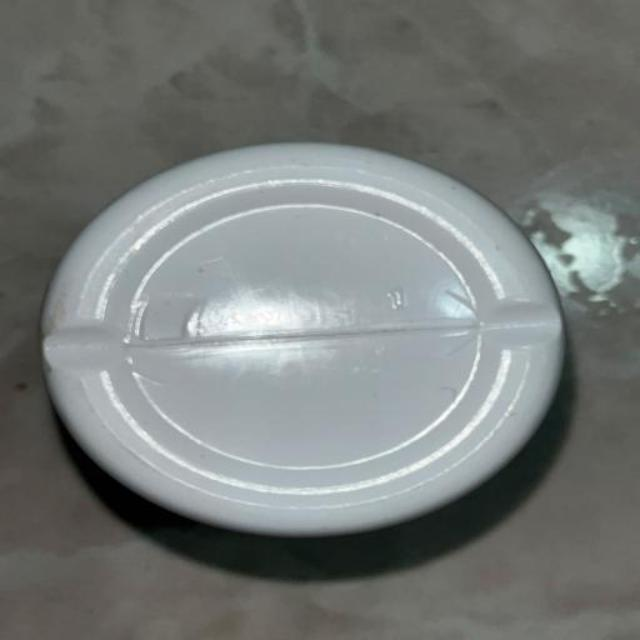HDPE: (21, 135, 572, 576)
